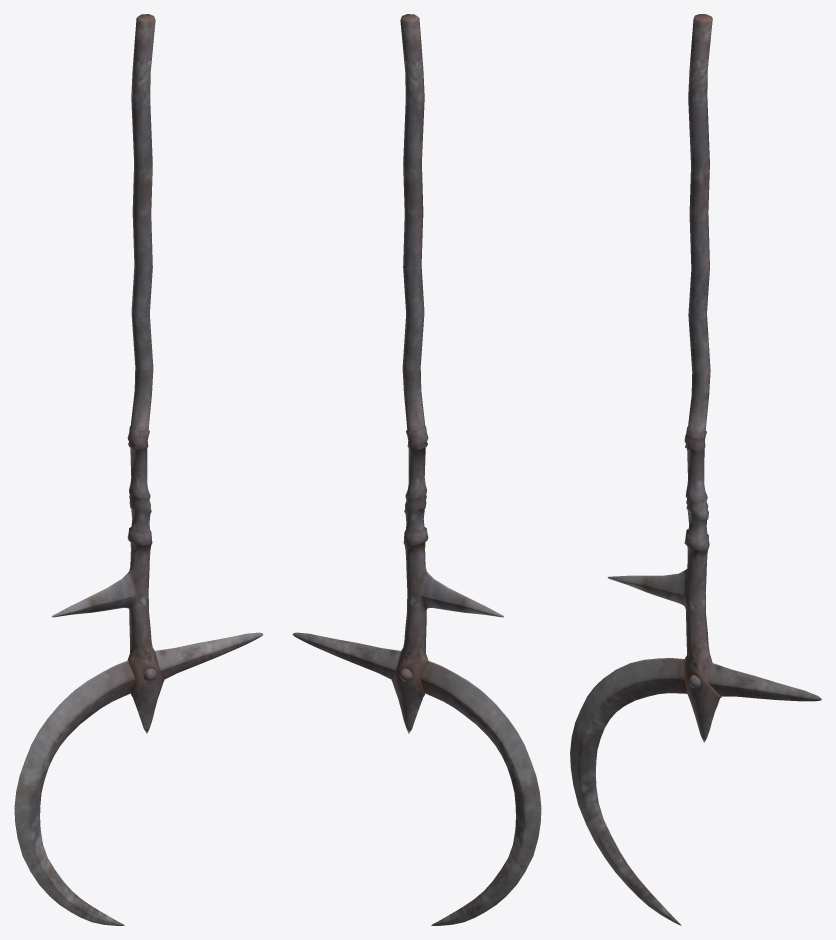
File: weapon-wp_a_1007.glb
The picture shows the model from 3 angles, left to right: view 1: azimuth 30°, elevation 25°; view 2: azimuth 150°, elevation 25°; view 3: azimuth 330°, elevation 25°; orthographic projection.
Visible parts, largest first — view 1: wp_a_1007_mesh; view 2: wp_a_1007_mesh; view 3: wp_a_1007_mesh.
Boxes of the visible parts, bbox=[...] form: wp_a_1007_mesh: bbox=[14, 14, 263, 925]; wp_a_1007_mesh: bbox=[292, 14, 541, 925]; wp_a_1007_mesh: bbox=[570, 14, 821, 925].
Bounding box in the file's own units: 0.6531 × 2.26 × 0.0786.
1 material, 1 textured.
